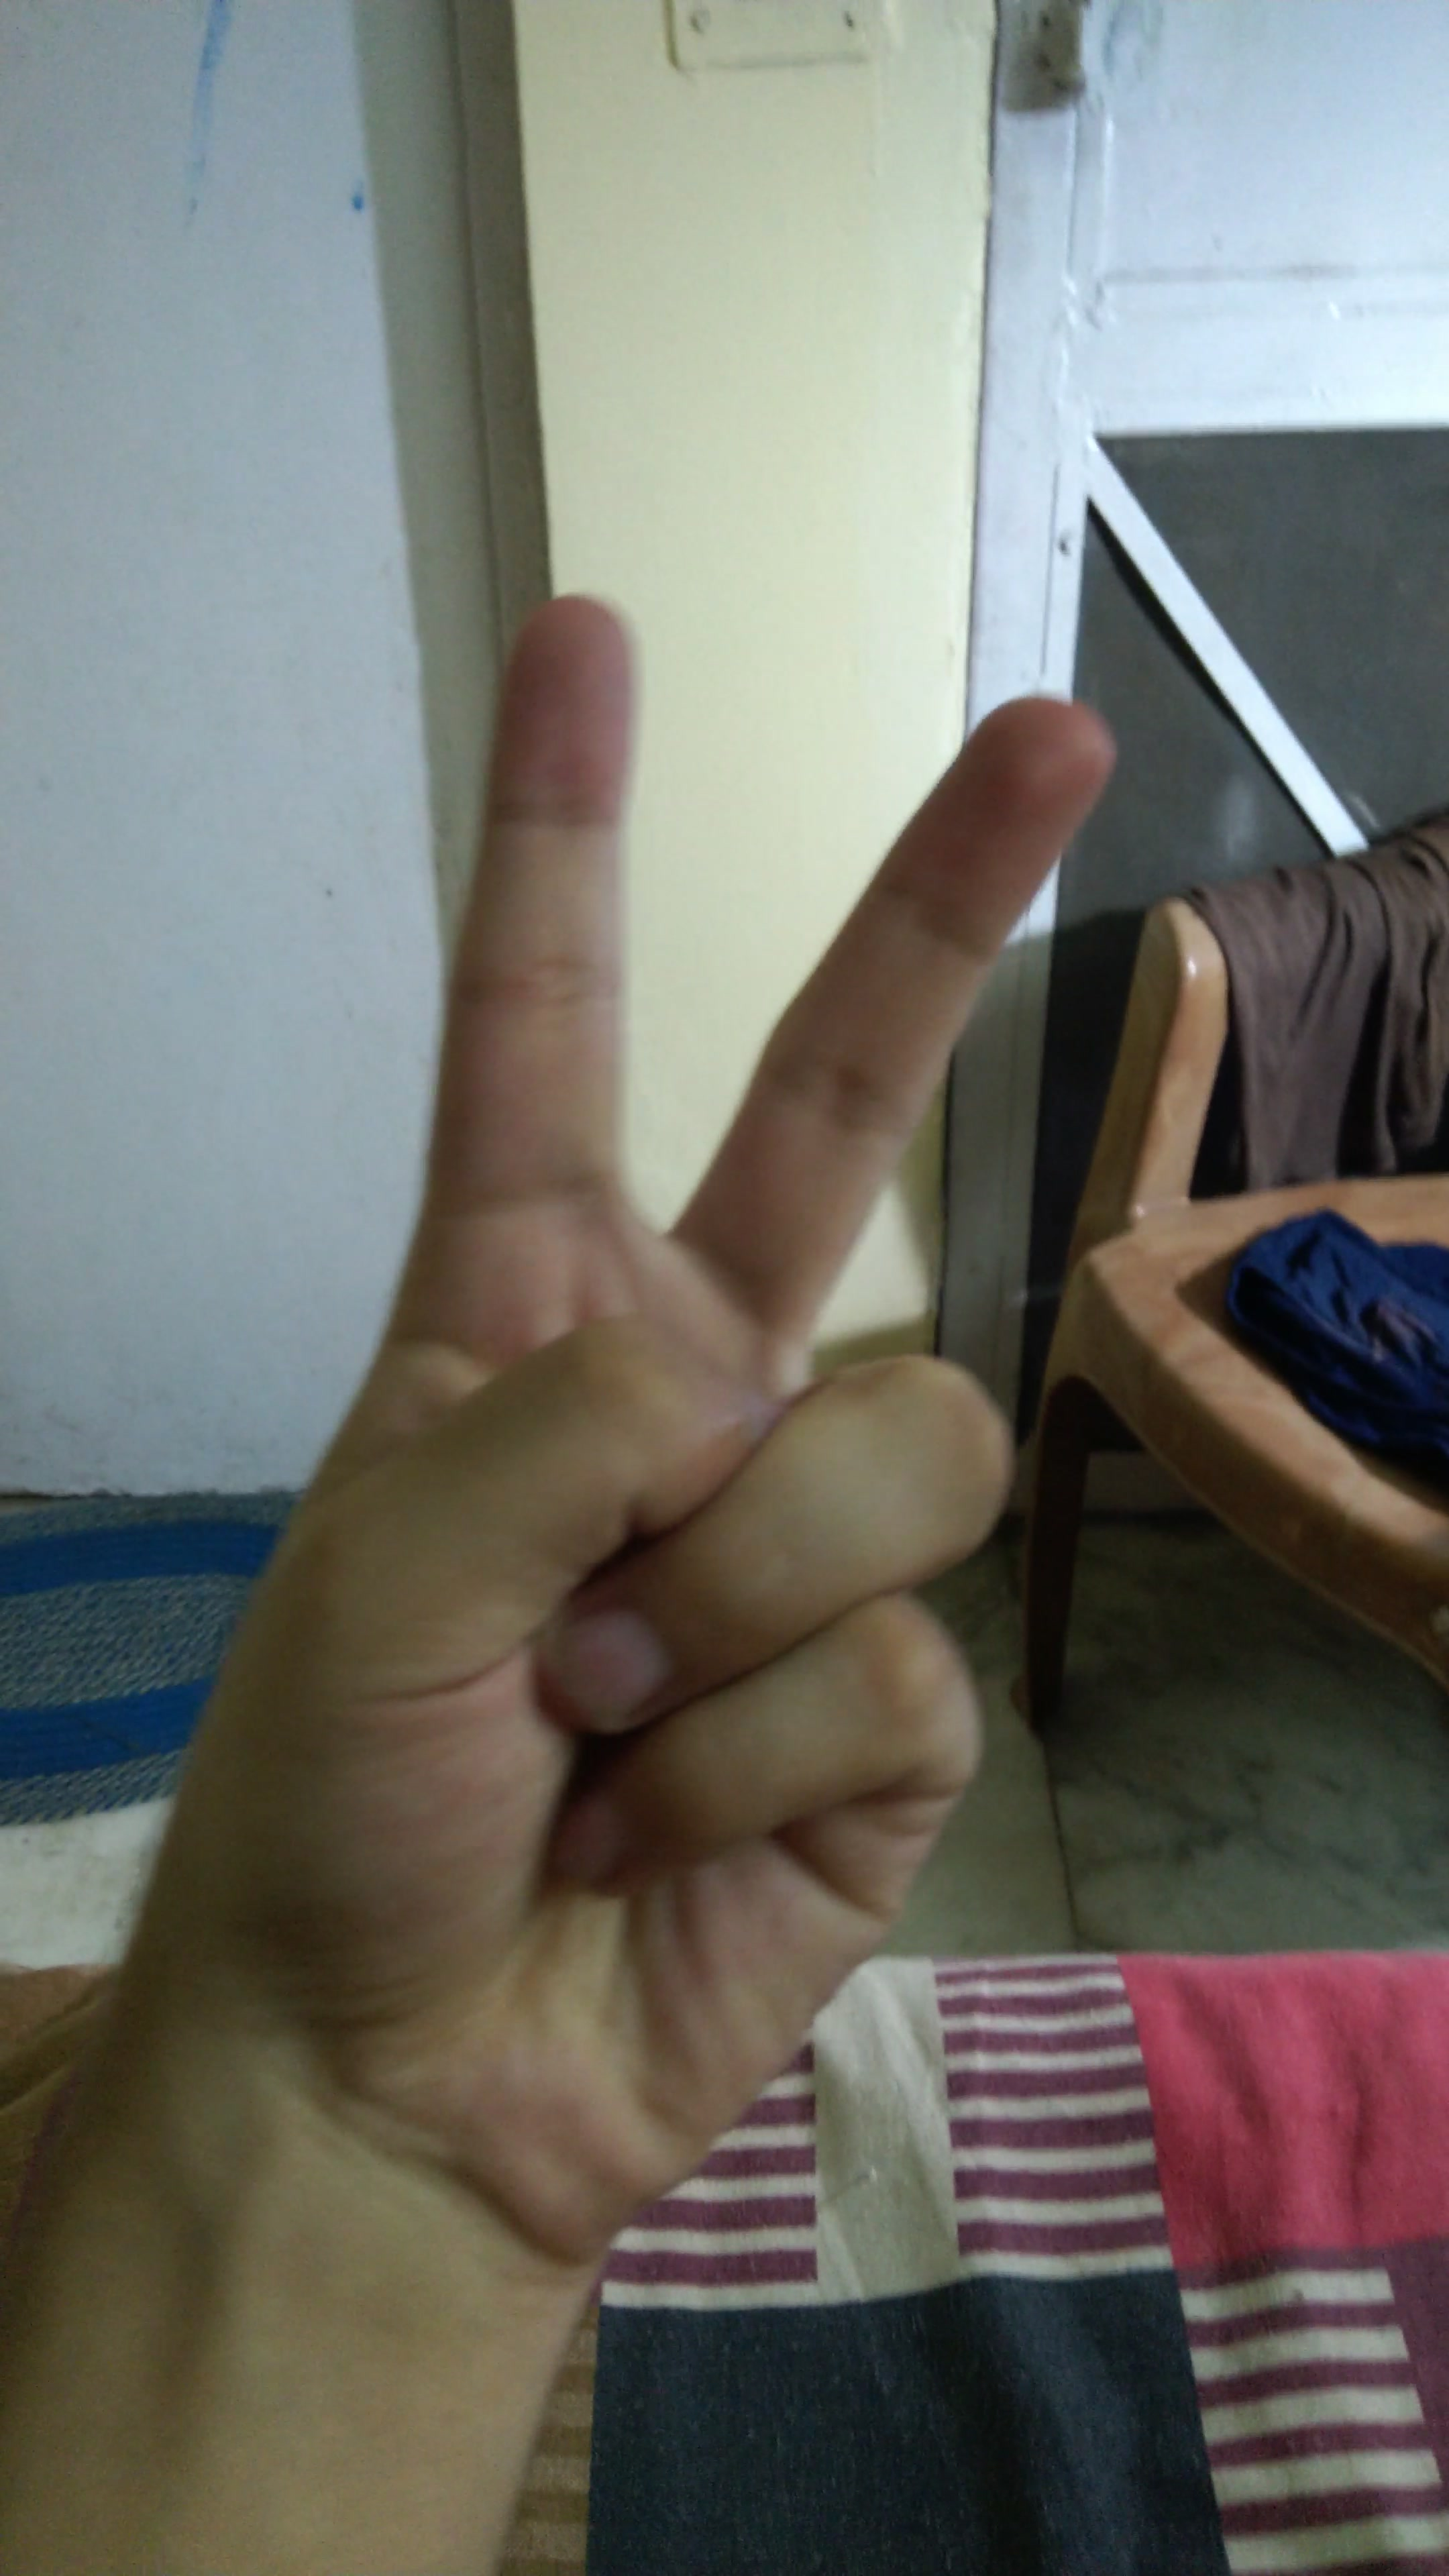hand: (108, 545, 1116, 2282)
